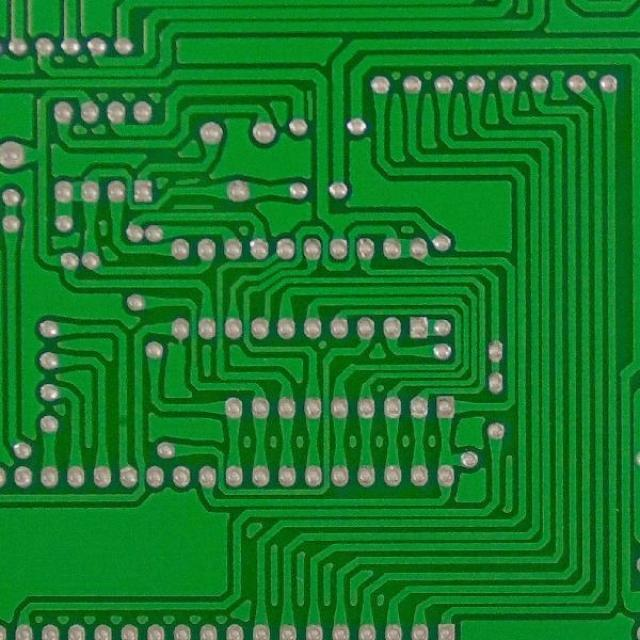Spurious_Cooper: (169, 201, 217, 212), (304, 87, 316, 123), (173, 176, 202, 186)
